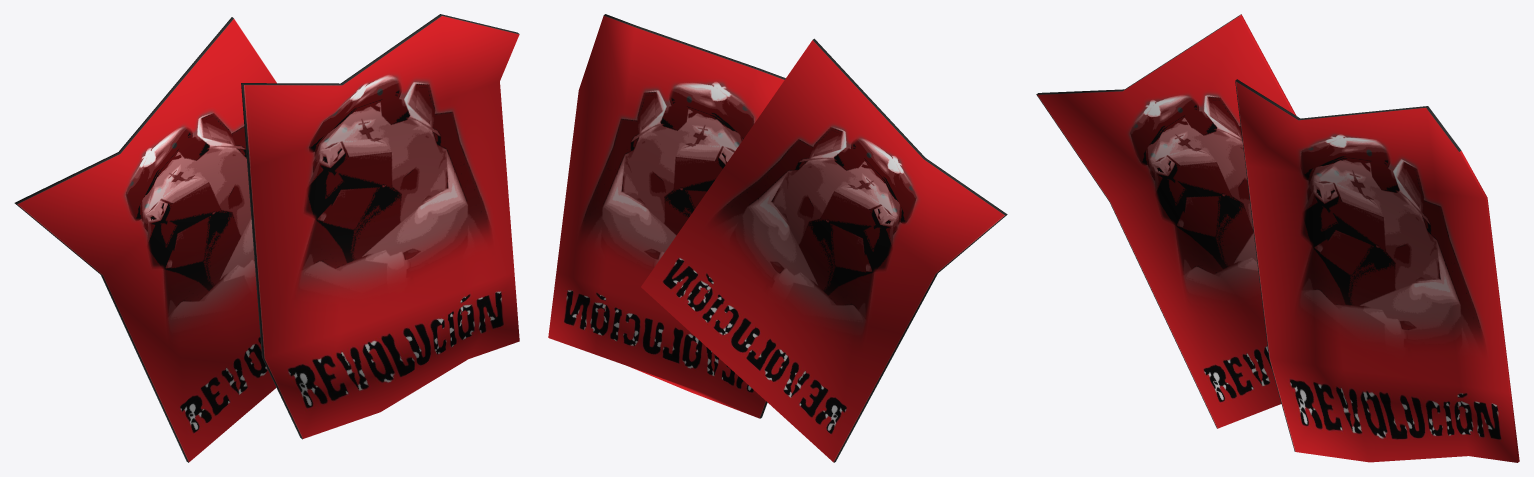
Rendered from posters.glb.
3 renders of one model, left to right at view 1: azimuth 30°, elevation 25°; view 2: azimuth 150°, elevation 25°; view 3: azimuth 330°, elevation 25°, orthographic. The views are drawn at different scales.
Visible parts, largest first — view 1: poster; view 2: poster; view 3: poster.
Part boxes in pixels (left/top/right/bottom): poster: left=14, top=14, right=519, bottom=462; poster: left=548, top=14, right=1007, bottom=462; poster: left=1036, top=14, right=1519, bottom=462.
Size of the model in its own units: 4.41 by 3.74 by 0.6426.
Materials: 1 (1 with a texture image).
